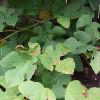grape leaf black rot: (0, 52, 36, 89), (41, 44, 76, 76), (76, 14, 99, 46), (65, 79, 100, 100), (58, 3, 82, 18)
